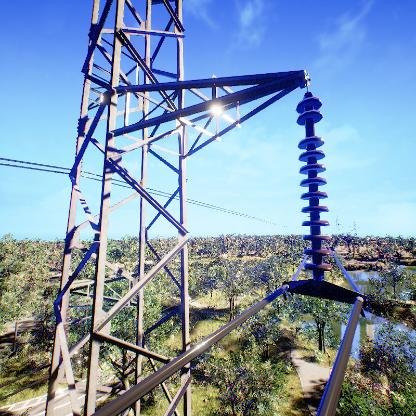insulator: (293, 94, 337, 280)
